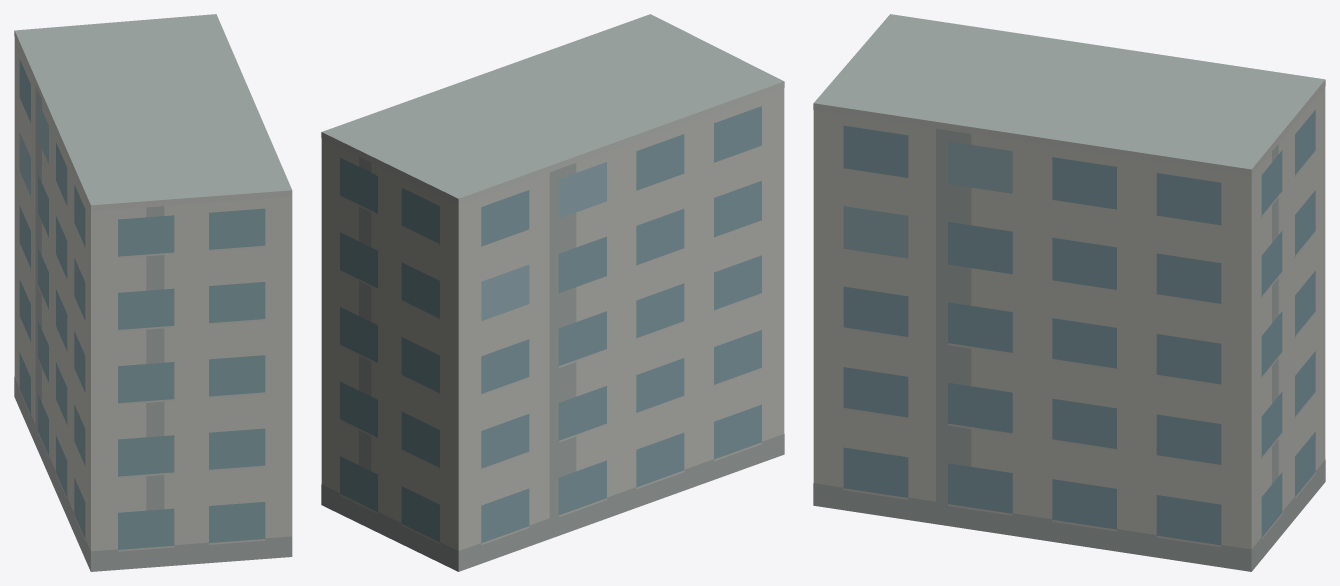
Rendered from survey-upis-32946466.glb.
3 views of the same model, side by side, from view 1: azimuth 30°, elevation 25°; view 2: azimuth 150°, elevation 25°; view 3: azimuth 270°, elevation 25° (orthographic). The views are drawn at different scales.
Visible parts, largest first — view 1: survey-upis-32946466.tmp; view 2: survey-upis-32946466.tmp; view 3: survey-upis-32946466.tmp.
Part boxes in pixels (<box>): survey-upis-32946466.tmp: <box>14,14,292,571</box>; survey-upis-32946466.tmp: <box>321,14,784,571</box>; survey-upis-32946466.tmp: <box>813,14,1325,571</box>.
Bounding box in the file's own units: 11.69 × 14.1 × 16.27.
